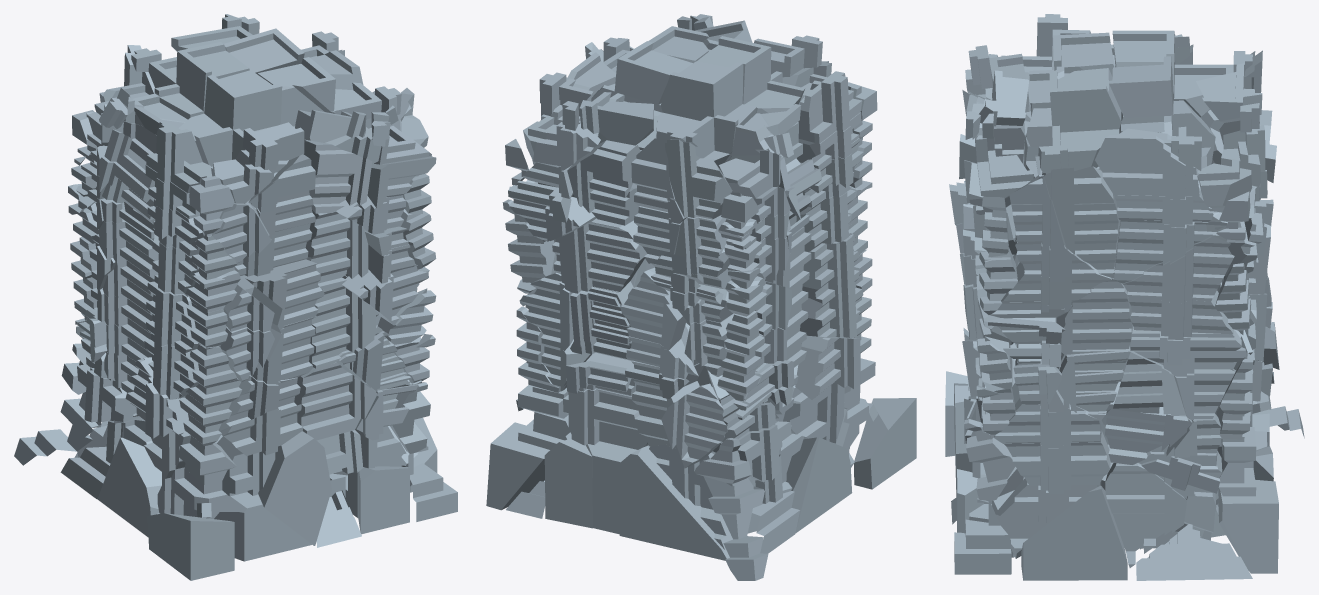
Rendered from Heavy_Commercial1-broken.fbx.
The picture shows the model from 3 angles, left to right: view 1: azimuth 30°, elevation 25°; view 2: azimuth 150°, elevation 25°; view 3: azimuth 270°, elevation 25°; orthographic projection. The views are drawn at different scales.
Visible parts, largest first — view 1: Heavy_Commercal_1_cell.099, Heavy_Commercal_1_cell.083, Heavy_Commercal_1_cell.166, Heavy_Commercal_1_cell.104, Heavy_Commercal_1_cell.082, Heavy_Commercal_1_cell.146, Heavy_Commercal_1_cell.197, Heavy_Commercal_1_cell.117, Heavy_Commercal_1_cell.063, Heavy_Commercal_1_cell.007, Heavy_Commercal_1_cell.056, Heavy_Commercal_1_cell.037 (+85 smaller); view 2: Heavy_Commercal_1_cell.104, Heavy_Commercal_1_cell.159, Heavy_Commercal_1_cell.139, Heavy_Commercal_1_cell.166, Heavy_Commercal_1_cell.146, Heavy_Commercal_1_cell.087, Heavy_Commercal_1_cell.148, Heavy_Commercal_1_cell.008, Heavy_Commercal_1_cell.099, Heavy_Commercal_1_cell.018, Heavy_Commercal_1_cell.194, Heavy_Commercal_1_cell.132 (+84 smaller); view 3: Heavy_Commercal_1_cell.036, Heavy_Commercal_1_cell.117, Heavy_Commercal_1_cell.088, Heavy_Commercal_1_cell.034, Heavy_Commercal_1_cell.178, Heavy_Commercal_1_cell.173, Heavy_Commercal_1_cell.132, Heavy_Commercal_1_cell.104, Heavy_Commercal_1_cell.102, Heavy_Commercal_1_cell.105, Heavy_Commercal_1_cell.171, Heavy_Commercal_1_cell.120 (+75 smaller).
Boxes of the visible parts, x1,y1,x2,y2 form: Heavy_Commercal_1_cell.099: (179,70,282,176); Heavy_Commercal_1_cell.083: (258,431,331,545); Heavy_Commercal_1_cell.166: (147,513,234,580); Heavy_Commercal_1_cell.104: (131,42,249,119); Heavy_Commercal_1_cell.082: (294,362,376,440); Heavy_Commercal_1_cell.146: (97,437,161,537); Heavy_Commercal_1_cell.197: (309,284,379,368); Heavy_Commercal_1_cell.117: (257,57,401,119); Heavy_Commercal_1_cell.063: (305,210,368,289); Heavy_Commercal_1_cell.007: (303,139,372,213); Heavy_Commercal_1_cell.056: (214,492,311,561); Heavy_Commercal_1_cell.037: (358,466,409,534); Heavy_Commercal_1_cell.104: (656,61,756,167); Heavy_Commercal_1_cell.159: (619,445,729,560); Heavy_Commercal_1_cell.139: (552,217,647,293); Heavy_Commercal_1_cell.166: (854,398,916,489); Heavy_Commercal_1_cell.146: (786,437,852,533); Heavy_Commercal_1_cell.087: (563,388,648,449); Heavy_Commercal_1_cell.148: (544,439,592,528); Heavy_Commercal_1_cell.008: (703,476,768,580); Heavy_Commercal_1_cell.099: (697,36,805,113); Heavy_Commercal_1_cell.018: (661,383,727,468); Heavy_Commercal_1_cell.194: (665,139,732,219); Heavy_Commercal_1_cell.132: (486,422,549,510); Heavy_Commercal_1_cell.036: (1021,485,1127,580); Heavy_Commercal_1_cell.117: (1038,68,1121,173); Heavy_Commercal_1_cell.088: (1044,166,1118,278); Heavy_Commercal_1_cell.034: (1095,128,1199,199); Heavy_Commercal_1_cell.178: (1105,463,1187,567); Heavy_Commercal_1_cell.173: (1122,236,1234,303); Heavy_Commercal_1_cell.132: (1218,479,1278,573); Heavy_Commercal_1_cell.104: (1112,30,1252,117); Heavy_Commercal_1_cell.102: (1056,267,1131,354); Heavy_Commercal_1_cell.105: (1136,524,1252,580); Heavy_Commercal_1_cell.171: (1004,430,1110,493); Heavy_Commercal_1_cell.120: (1114,220,1212,283).
Bounding box in the file's own units: 4675 × 6567 × 4716.
